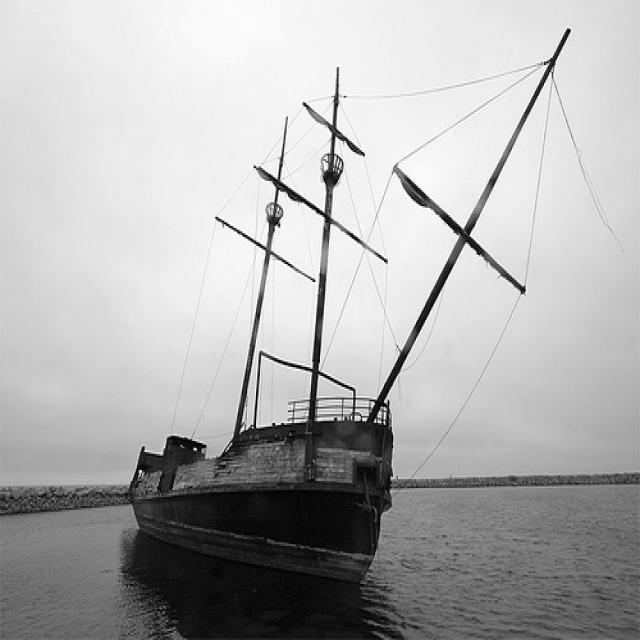Ship: (71, 44, 597, 593)
